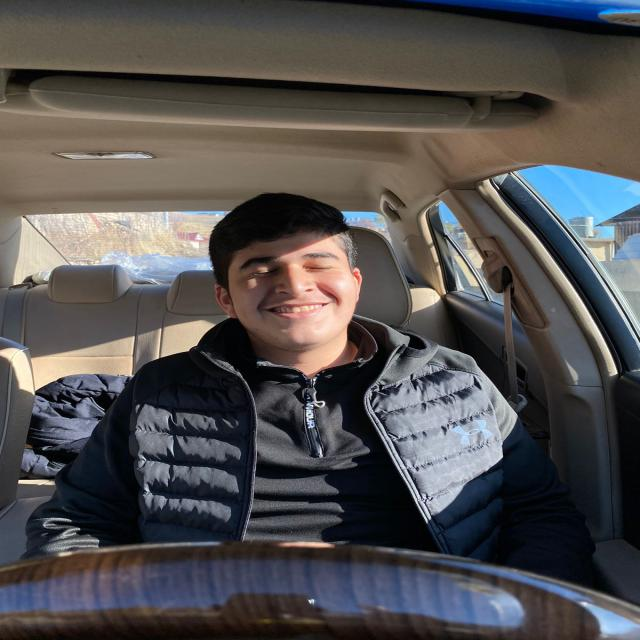drowsy: (204, 180, 386, 353)
